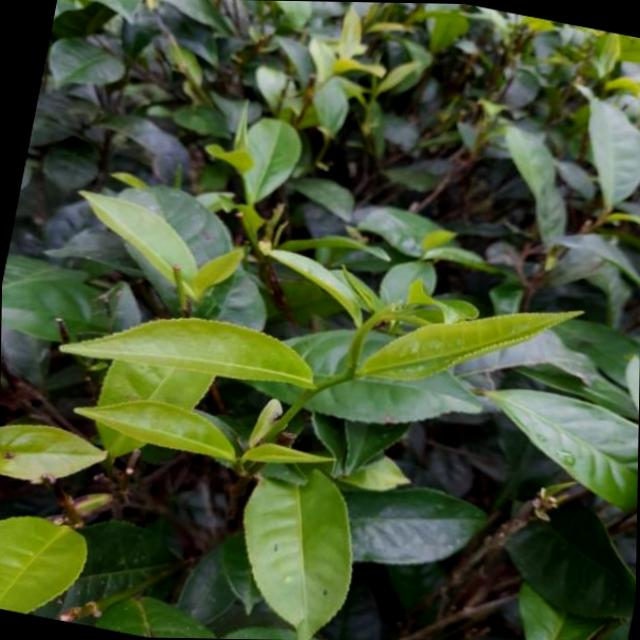Stem: (342, 369, 354, 379)
